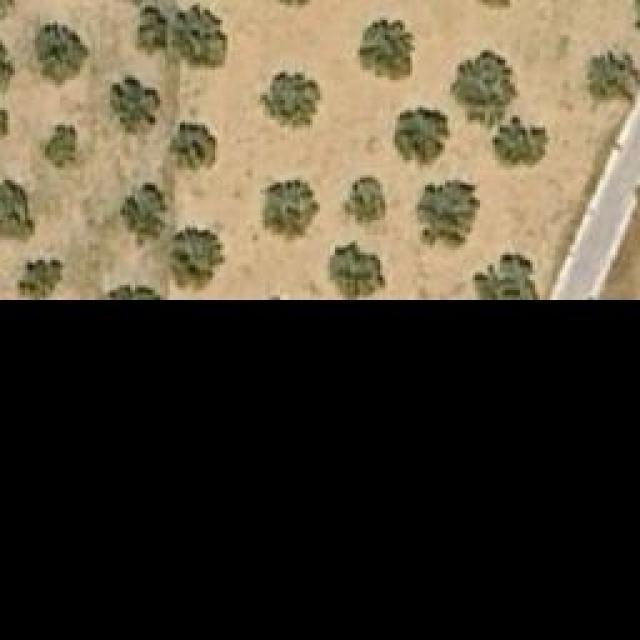Tree: (450, 48, 518, 131), (410, 178, 480, 251), (167, 225, 225, 293), (168, 5, 228, 70), (355, 20, 415, 83), (392, 105, 450, 170), (263, 72, 323, 130), (582, 50, 640, 110), (35, 23, 90, 86), (110, 73, 163, 133), (330, 245, 388, 298), (265, 180, 320, 235), (473, 253, 538, 298), (493, 118, 548, 171), (120, 183, 170, 238), (170, 122, 218, 170), (0, 178, 35, 241), (343, 175, 386, 225), (15, 260, 63, 298), (45, 125, 78, 168), (0, 28, 15, 98), (0, 0, 15, 20)
